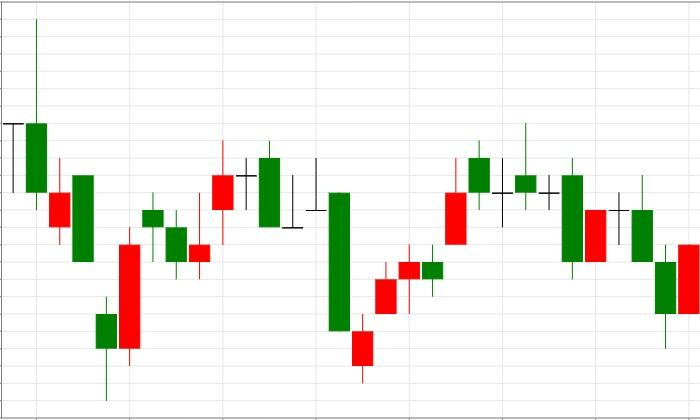evening_star_fall: (95, 140, 280, 401)
three_white_soldiers_rise: (306, 157, 421, 383)
